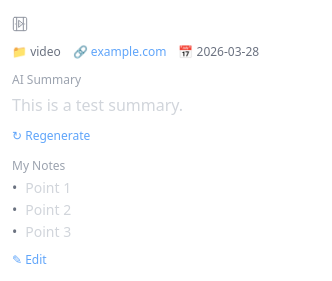
Test: ChapterCard › shows error message when summary generation fails
The width and height of the screenshot is (332, 281).
Click the button "↻ Regenerate". click: (51, 136)
box: x1=12 y1=128 x2=90 y2=144
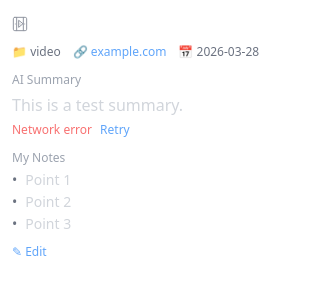
Check: the text "Network error" is shown, box x1=12 y1=122 x2=92 y2=138
